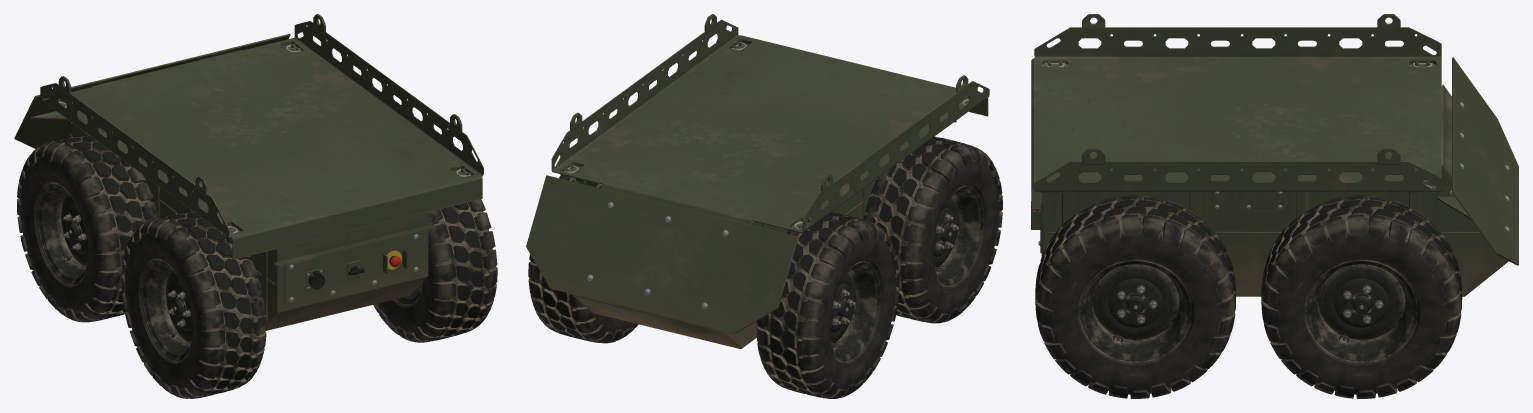
Rendered from zmiy_logistic.glb.
3 views of the same model, side by side, from view 1: azimuth 30°, elevation 25°; view 2: azimuth 150°, elevation 25°; view 3: azimuth 270°, elevation 25° (orthographic). The views are drawn at different scales.
Parts seen in each view (by area): view 1: Deck, Wheel_RL, Wheel_FL, Wheel_RR, Hull, Rear, FrontGuard; view 2: Deck, FrontGuard, Wheel_FL, Wheel_RL, Hull, Wheel_FR; view 3: Deck, Wheel_RR, Wheel_FR, Hull, FrontGuard, Rear.
Part boxes in pixels (x1=…): Deck: x1=40, y1=14, x2=483, y2=259; Wheel_RL: x1=121, y1=209, x2=266, y2=398; Wheel_FL: x1=17, y1=133, x2=157, y2=322; Wheel_RR: x1=373, y1=199, x2=497, y2=342; Hull: x1=67, y1=49, x2=428, y2=330; Rear: x1=274, y1=224, x2=436, y2=308; FrontGuard: x1=14, y1=33, x2=290, y2=148; Deck: x1=551, y1=14, x2=989, y2=233; FrontGuard: x1=526, y1=175, x2=798, y2=333; Wheel_FL: x1=756, y1=212, x2=899, y2=398; Wheel_RL: x1=863, y1=136, x2=1002, y2=323; Hull: x1=570, y1=178, x2=878, y2=348; Wheel_FR: x1=528, y1=175, x2=638, y2=343; Deck: x1=1031, y1=14, x2=1441, y2=213; Wheel_RR: x1=1035, y1=195, x2=1235, y2=398; Wheel_FR: x1=1261, y1=195, x2=1462, y2=398; Hull: x1=1041, y1=84, x2=1508, y2=296; FrontGuard: x1=1436, y1=57, x2=1518, y2=265; Rear: x1=1031, y1=191, x2=1041, y2=253.
Bounding box in the file's own units: 1.42 × 1.05 × 1.88.
2 materials, 2 textured.
